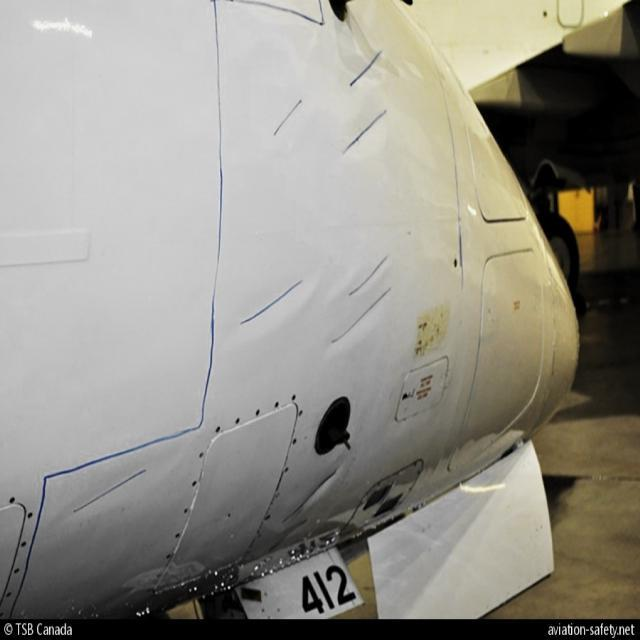dent: (346, 107, 396, 170)
